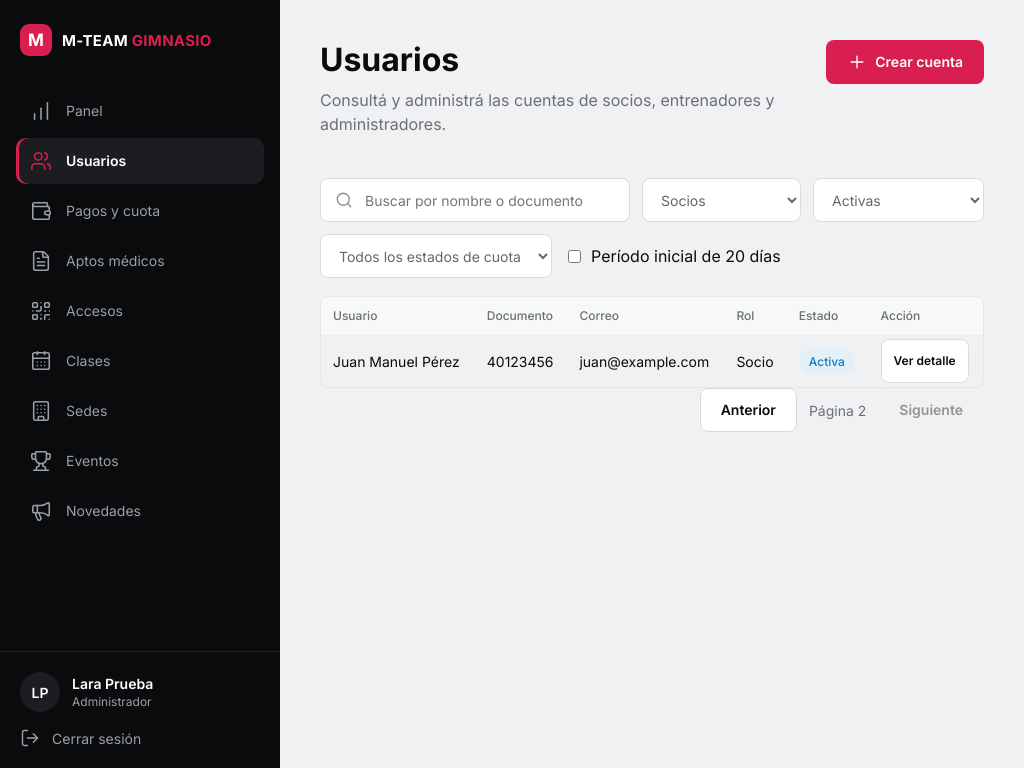
Test case: detalle de usuarios del administrador › navega desde el listado, conserva los filtros y muestra datos reales del socio
The width and height of the screenshot is (1024, 768).
Click the link with aria-label "Ver detalle de Juan Manuel Pérez" at (925, 361), box 881,339 -> 969,383
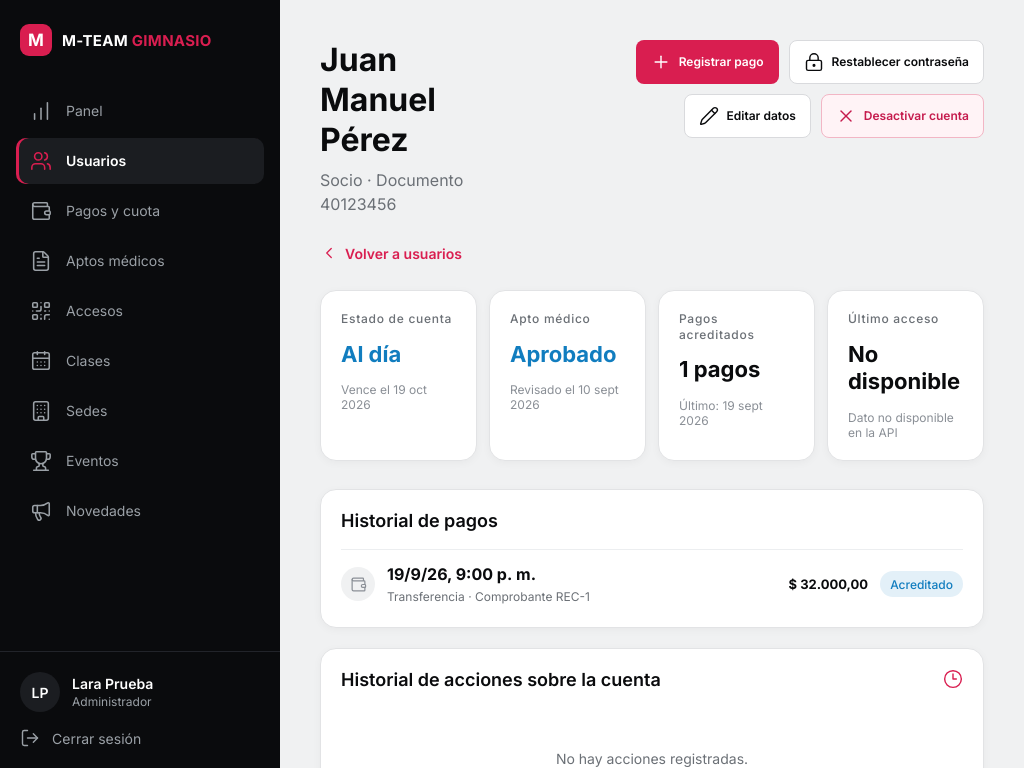
Check: the heading "Juan Manuel Pérez" is shown, box 320,40 -> 436,159
Check: the heading "Historial de pagos" is shown, box 341,510 -> 498,531
Check: the text "No hay acciones registradas." is shown, box 556,748 -> 748,767
Click the button "Editar datos" at (747, 116), box 684,94 -> 811,138
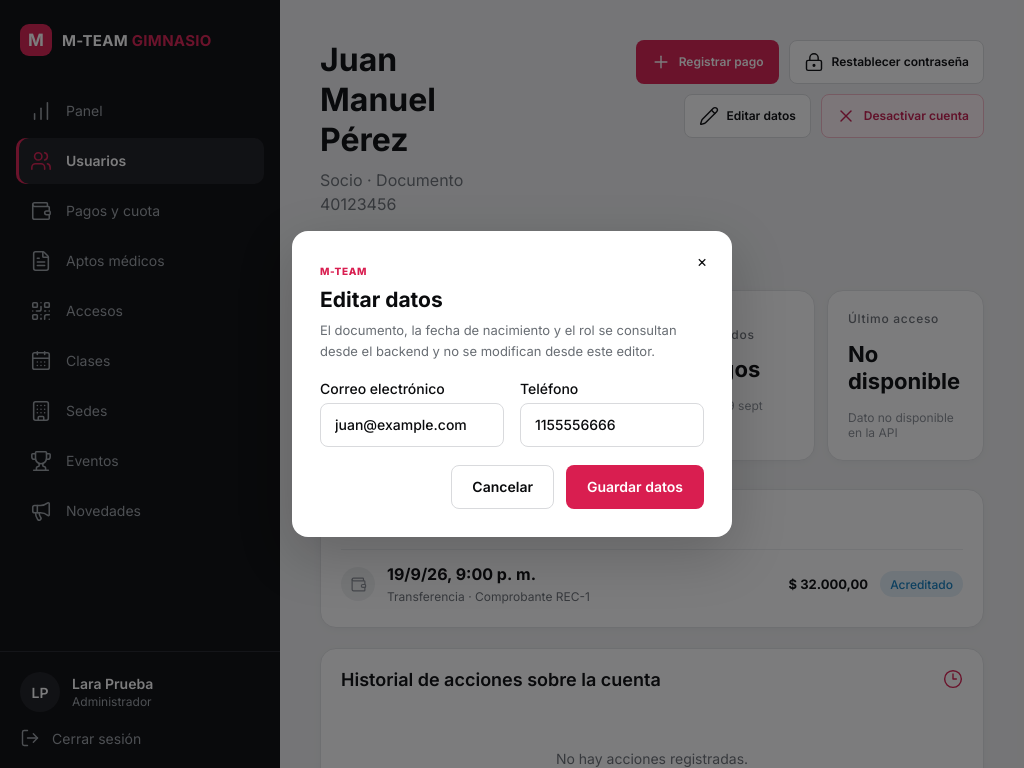
Check: the dialog "Editar datos" is shown, box 292,231 -> 732,537
